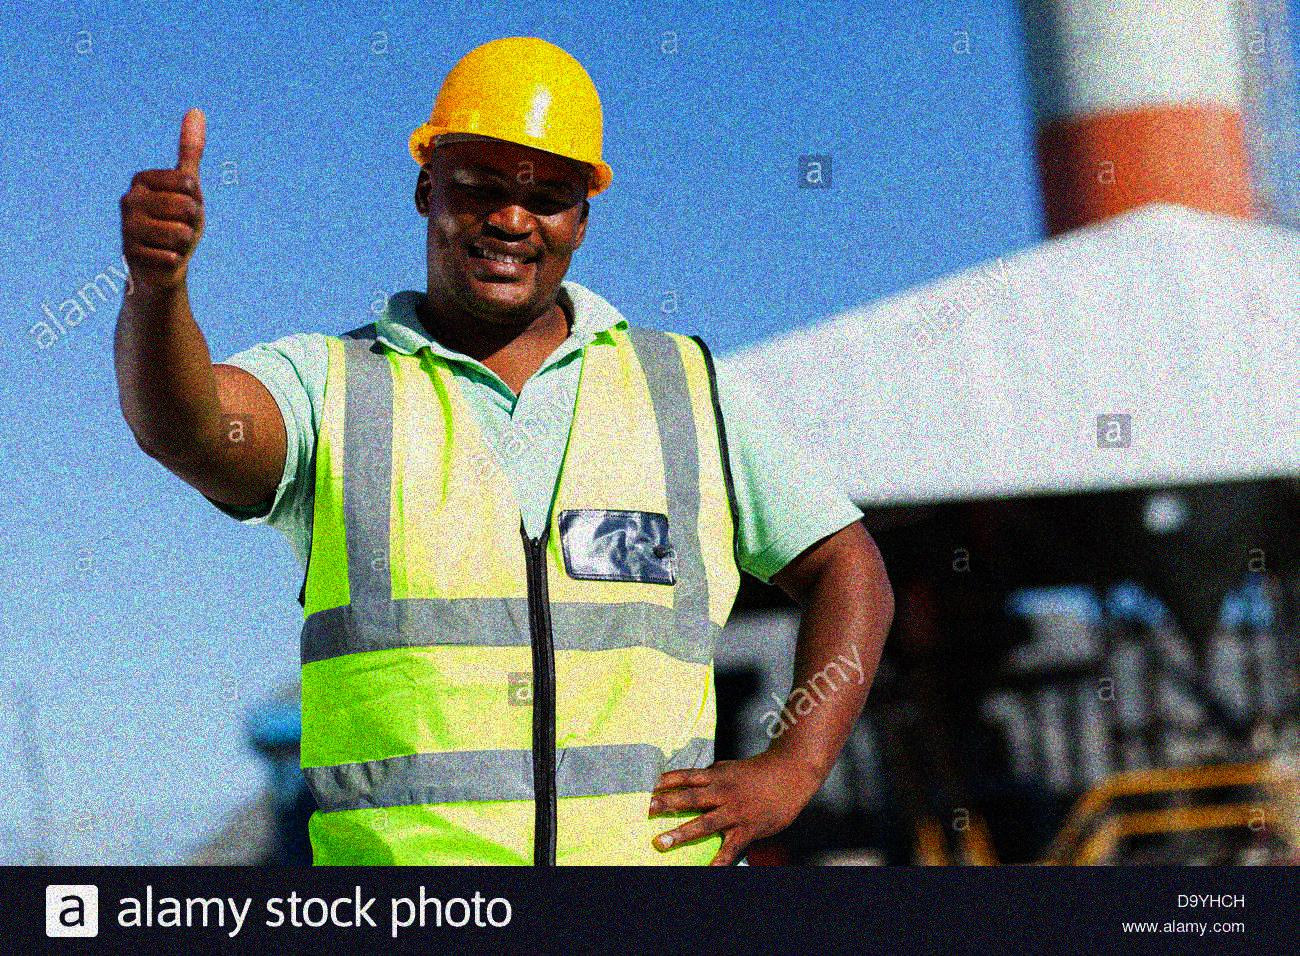helmet: (417, 36, 608, 332)
